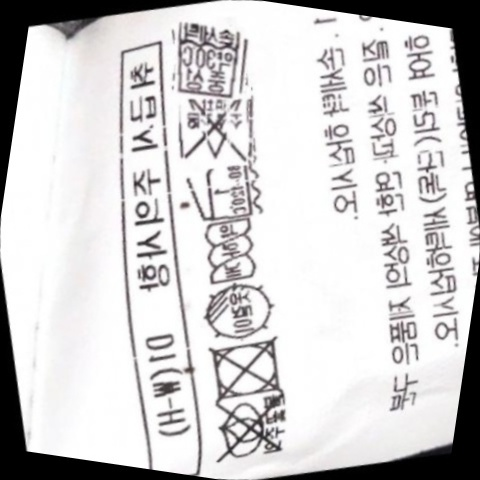DN_tumble_dry: (196, 324, 299, 412)
hand_wash: (160, 13, 259, 106)
iron_low: (181, 153, 266, 232)
line_dry_in_shade: (190, 271, 286, 351)
wring: (194, 211, 269, 293)
